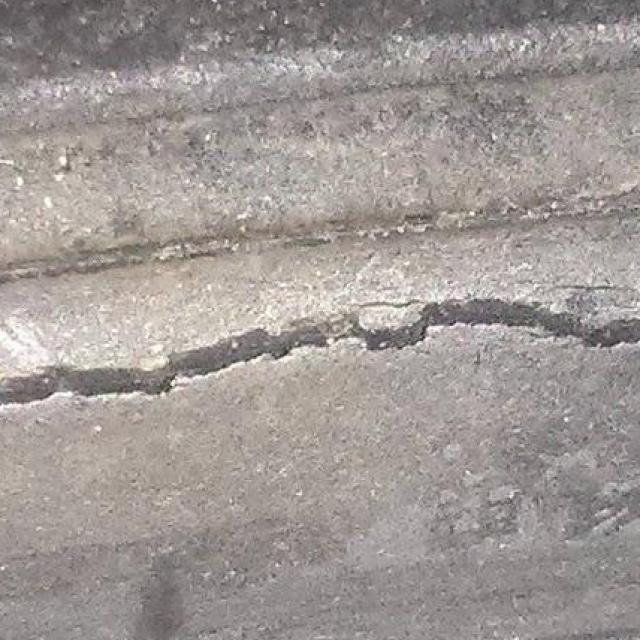Cracks: (1, 276, 638, 417)
